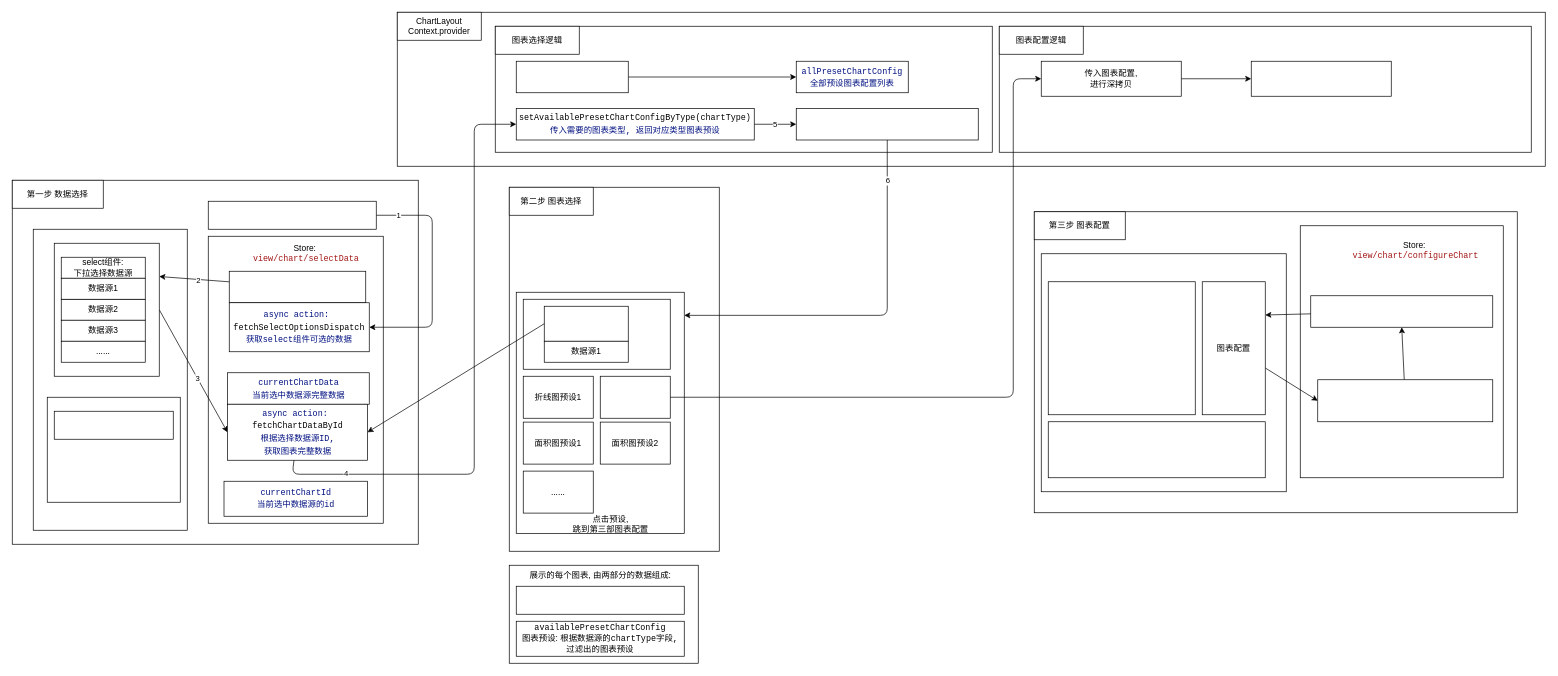
This 1558x676 diagram has some shape labels left out. Each missing label, with the centre of its shape:
"actions: 用户修改图表配置, 直接修改store中配置文件" belongs at (x=1405, y=400).
"availablePresetChartConfig 当前选择的数据源, 所支持的图表配置列表" belongs at (x=887, y=124).
"currentChartConf 当前图表预设" belongs at (x=1401, y=311).
"currentChartData 数据源: 通过select组件选择的数据" belongs at (x=600, y=600).
"duplicateChartData" belongs at (x=1321, y=78).
"selectedDataOptions 可选数据源索引列表" belongs at (x=297, y=287).
"select组件: 下拉选择数据源 (可重新选择数据)" belongs at (x=586, y=323).
"使用表格展示: 选中的数据源" belongs at (x=113, y=425).
"图表展示" belongs at (x=1121, y=348).
"折线图预设2" belongs at (x=635, y=397).
"数据源展示" belongs at (x=1156, y=449).
"生命周期: 初始化, 获取select组件数据" belongs at (x=292, y=215).
"组件初始化时, 懒加载全部配置数据" belongs at (x=572, y=77).
